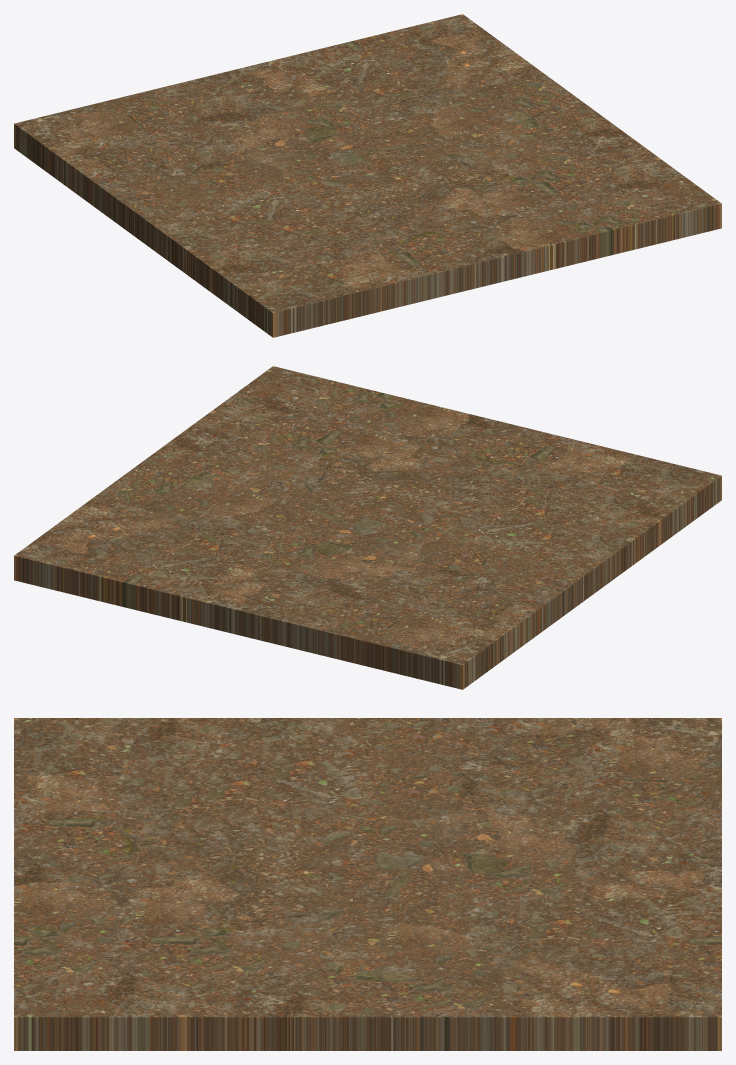
The model's file is 泥土路.fbx.
3 renders of one model, top to bottom at view 1: azimuth 30°, elevation 25°; view 2: azimuth 150°, elevation 25°; view 3: azimuth 270°, elevation 25°, orthographic. The views are drawn at different scales.
Parts seen in each view (by area): view 1: 栅格; view 2: 栅格; view 3: 栅格.
Part boxes in pixels (x1,y1,x2,y2): 栅格: [14, 14, 721, 337]; 栅格: [14, 366, 721, 689]; 栅格: [14, 718, 721, 1050].
Bounding box in the file's own units: 200 × 10.48 × 200.
Materials: 1 (1 with a texture image).
